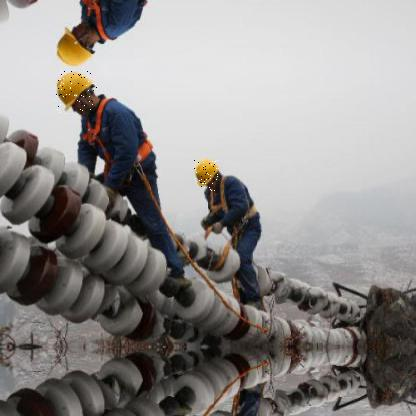safetyhelmet: (56, 70, 98, 115), (194, 160, 221, 192)
